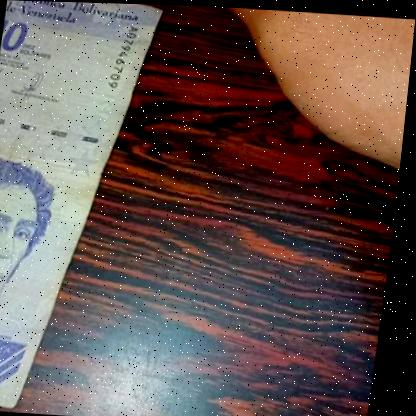vef_front: (0, 0, 160, 409)
